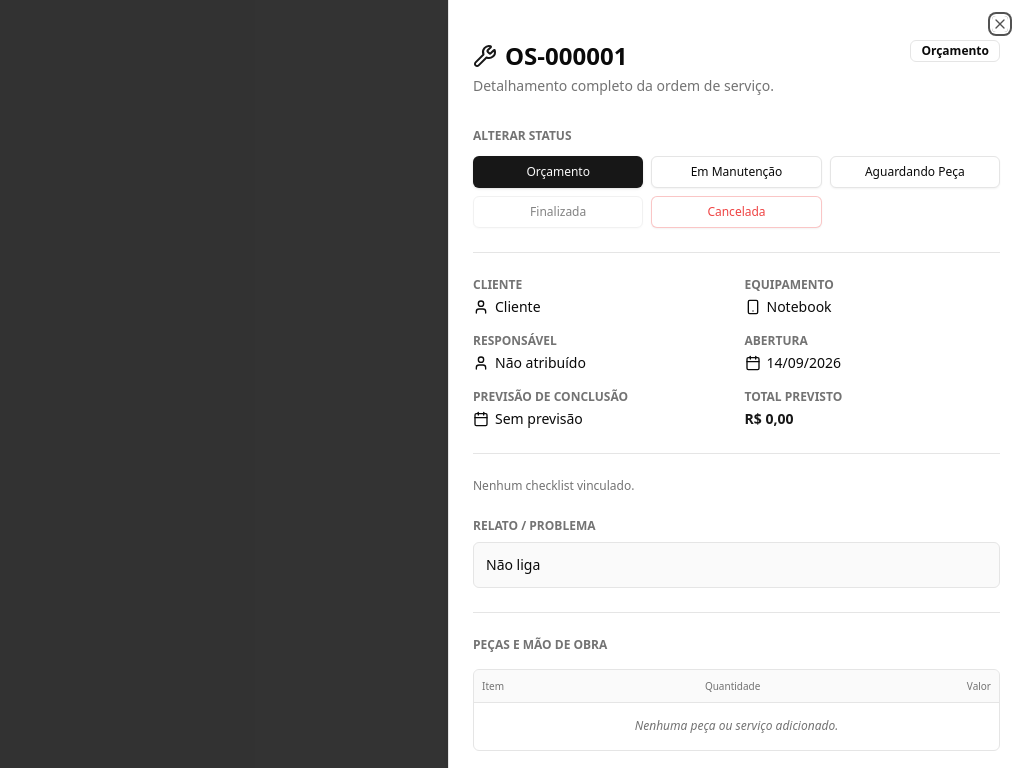
Test: ServiceOrderDetailSheet status › changes status from the detail view and refreshes the order
Expected: the button "Em Manutenção" is shown, [651,156,822,188]
Expected: the button "Aguardando Peça" is shown, [830,156,1000,188]
Step 1. Click the button "Orçamento" → point(558, 172), box [473,156,643,188]
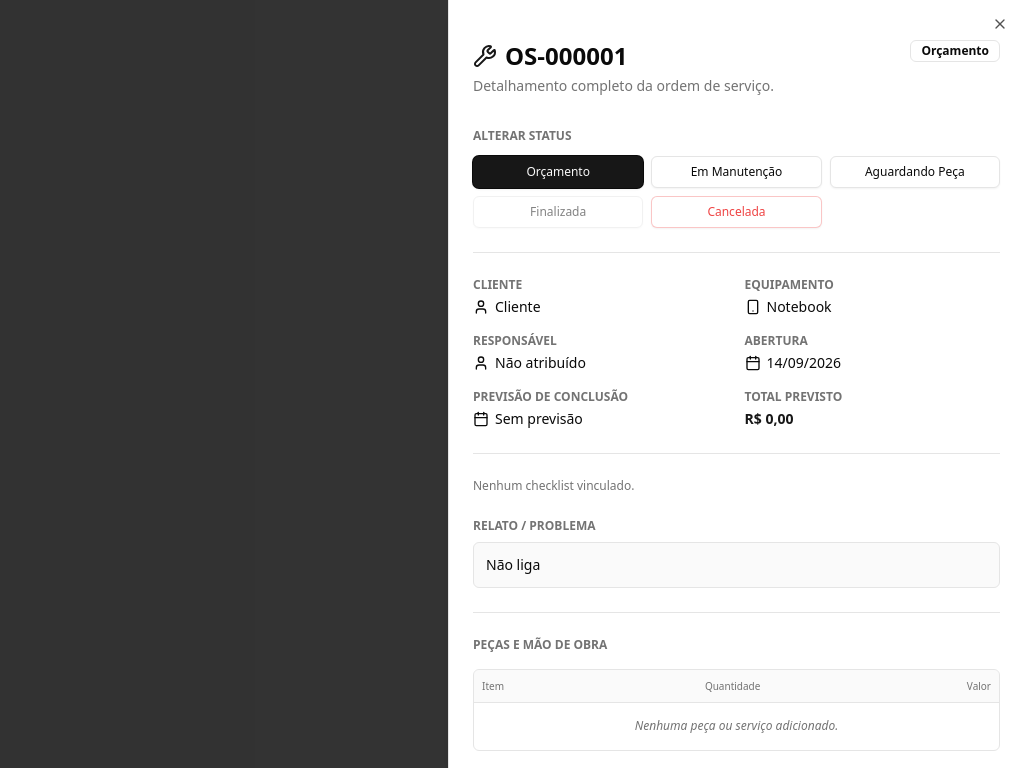
Step 2. Click the button "Em Manutenção" → point(736, 172), box [651,156,822,188]
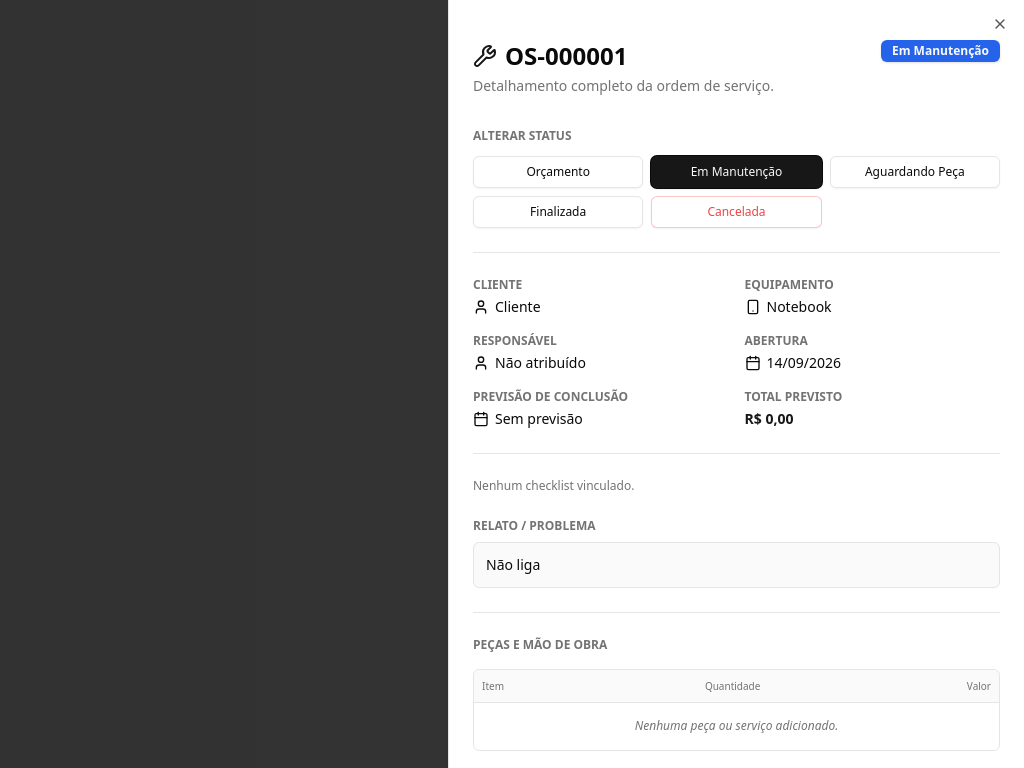
Now the button "Finalizada" is enabled, box [473,196,643,228]
